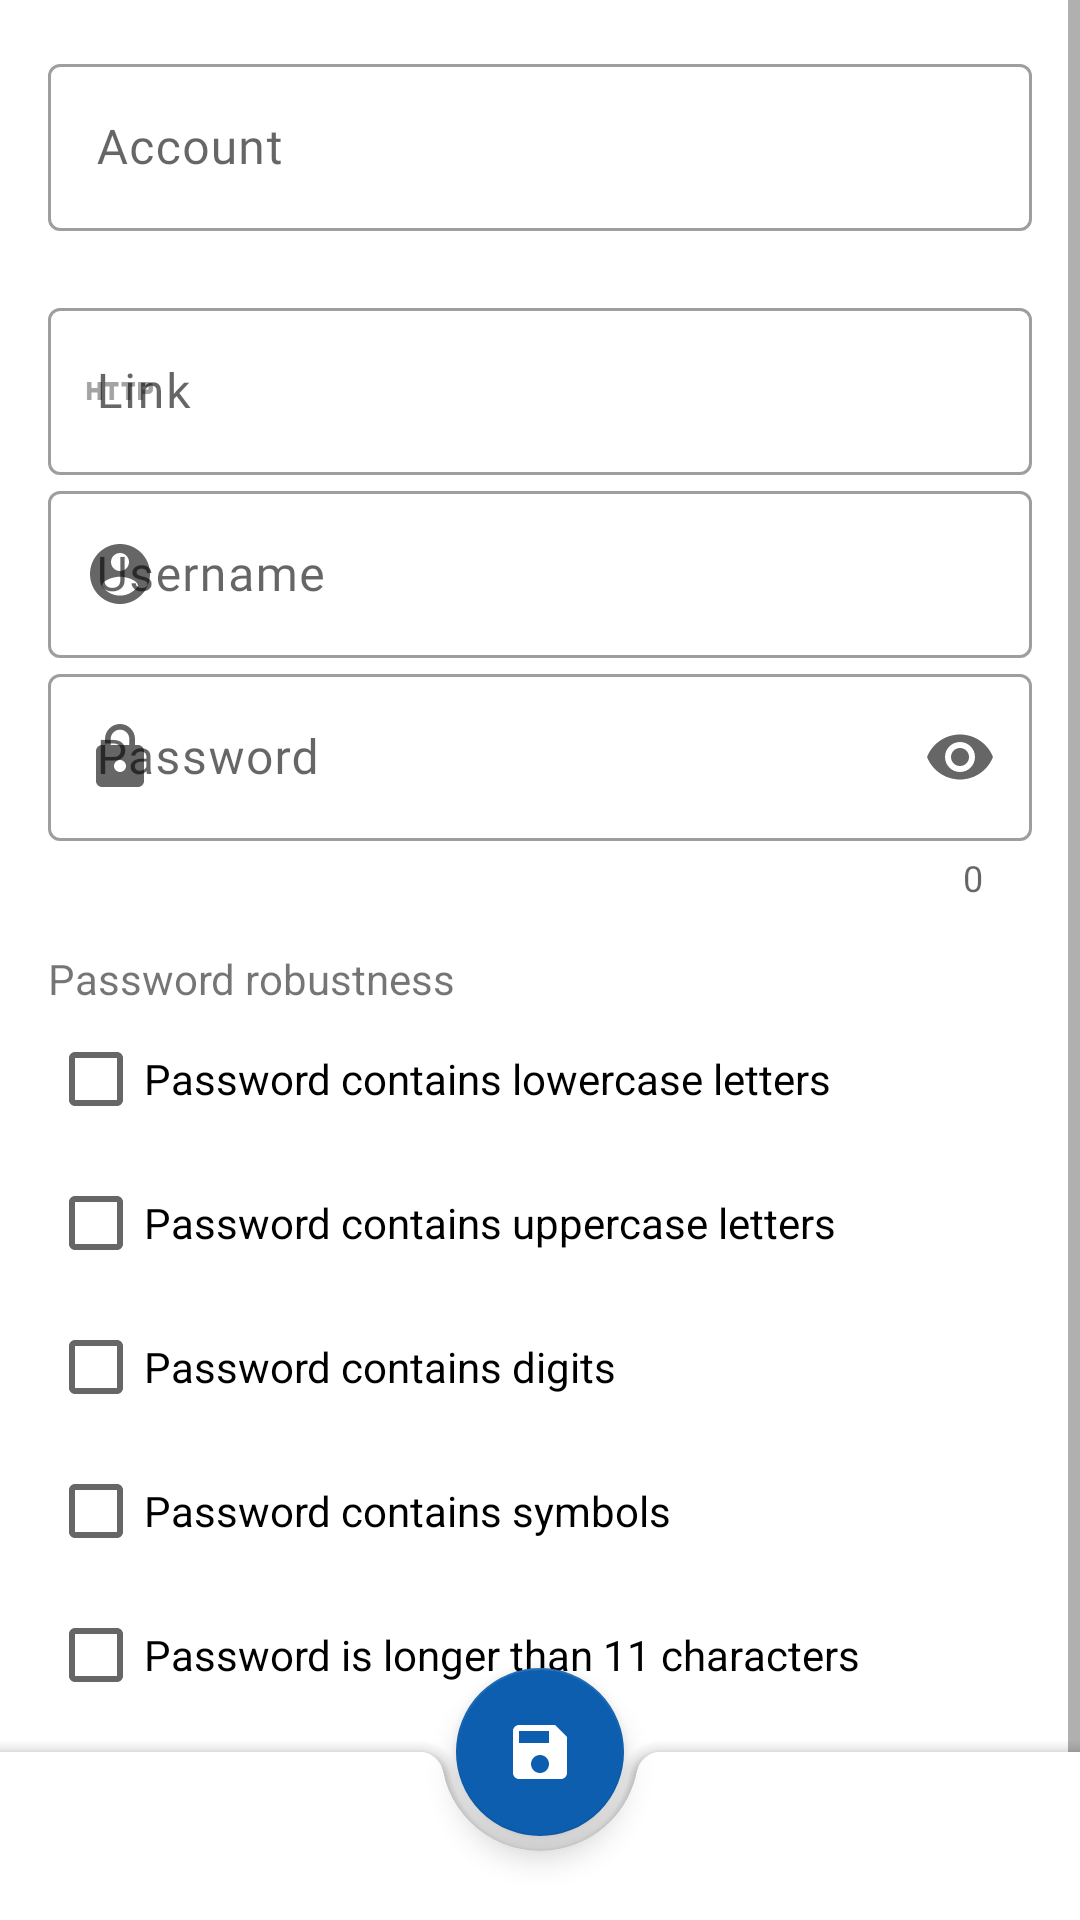

Icons on this 1080px x 1920px Android screen, each with the point to tap as [x,y]:
Save: [540,1752]
